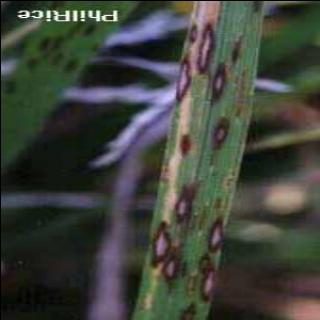Blast: (149, 182, 195, 286)
